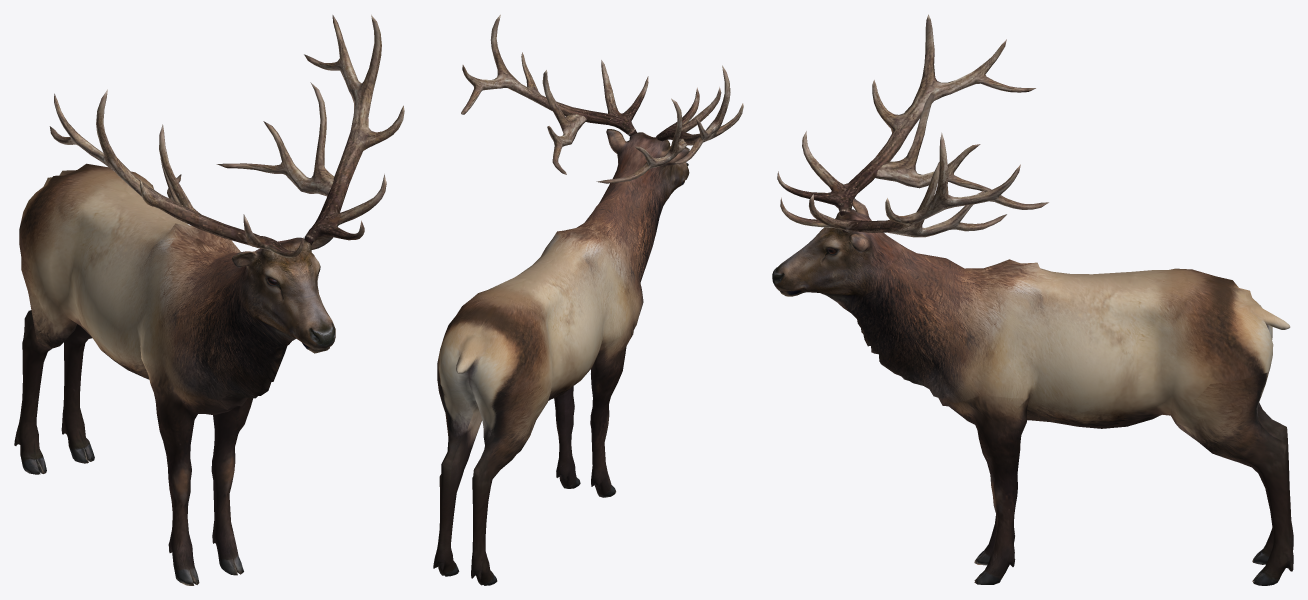
3 views of the same model, side by side, from view 1: azimuth 30°, elevation 25°; view 2: azimuth 150°, elevation 25°; view 3: azimuth 270°, elevation 25° (orthographic). The views are drawn at different scales.
Parts seen in each view (by area): view 1: sm_2_0_1, Chifre; view 2: sm_2_0_1, Chifre; view 3: sm_2_0_1, Chifre.
Part boxes in pixels (<box>): sm_2_0_1: <box>14,163,335,585</box>; Chifre: <box>49,14,404,258</box>; sm_2_0_1: <box>433,129,689,585</box>; Chifre: <box>461,14,743,183</box>; sm_2_0_1: <box>772,198,1293,585</box>; Chifre: <box>777,14,1048,237</box>.
Size of the model in its own units: 1.36 by 2.41 by 2.28.
4 materials, 4 textured.
